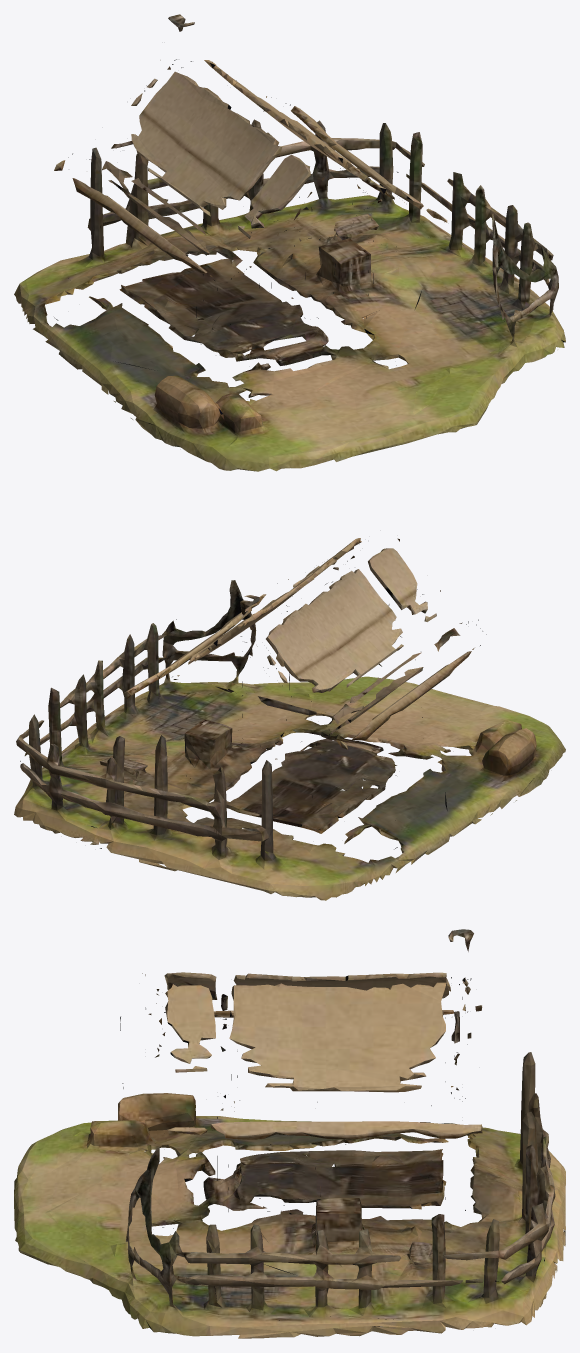
File: hut_hunter_base_lod0.glb
The picture shows the model from 3 angles, top to bottom: view 1: azimuth 30°, elevation 25°; view 2: azimuth 150°, elevation 25°; view 3: azimuth 270°, elevation 25°; orthographic projection. The views are drawn at different scales.
Visible parts, largest first — view 1: hut_hunter_base_lod0; view 2: hut_hunter_base_lod0; view 3: hut_hunter_base_lod0.
Part boxes in pixels (<box>): hut_hunter_base_lod0: <box>14,14,565,471</box>; hut_hunter_base_lod0: <box>14,538,565,900</box>; hut_hunter_base_lod0: <box>14,929,565,1338</box>.
Bounding box in the file's own units: 4.1 × 2.5 × 4.47.
Materials: 1 (1 with a texture image).
